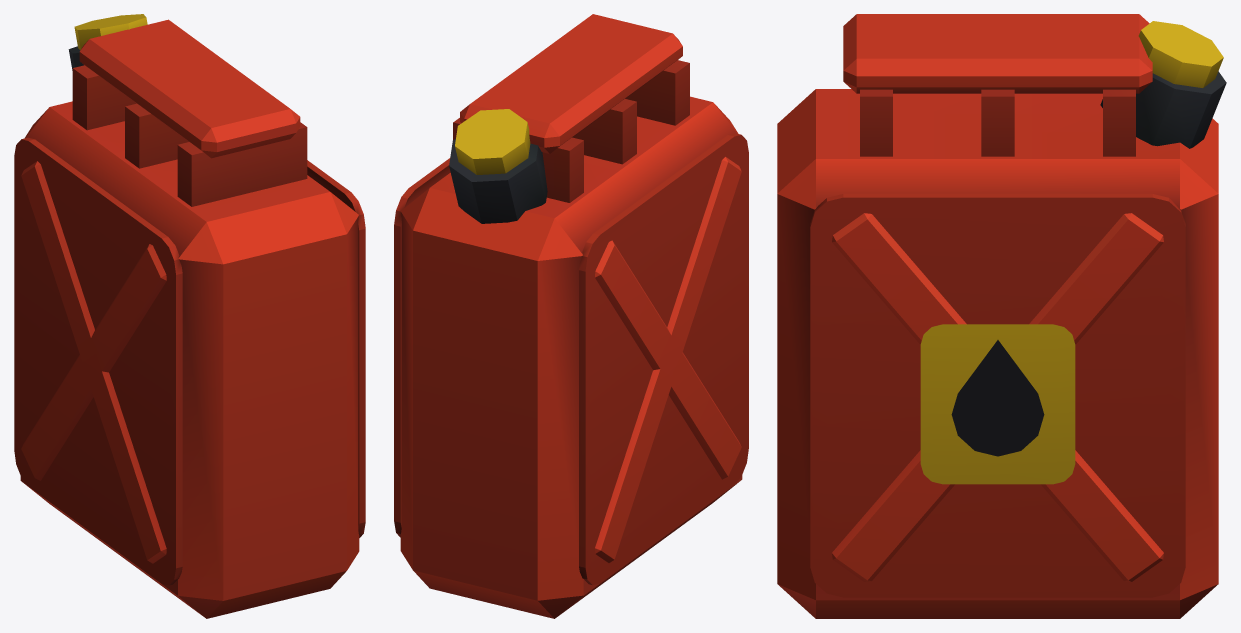
The model's file is fuel_can.glb.
The picture shows the model from 3 angles, left to right: view 1: azimuth 30°, elevation 25°; view 2: azimuth 150°, elevation 25°; view 3: azimuth 270°, elevation 25°; orthographic projection. The views are drawn at different scales.
Parts seen in each view (by area): view 1: Body; view 2: Body; view 3: Body.
Part boxes in pixels (x1,y1,x2,y2): Body: [14, 14, 365, 618]; Body: [394, 14, 748, 618]; Body: [777, 14, 1226, 618].
Size of the model in its own units: 0.25 by 0.5538 by 0.4072.
